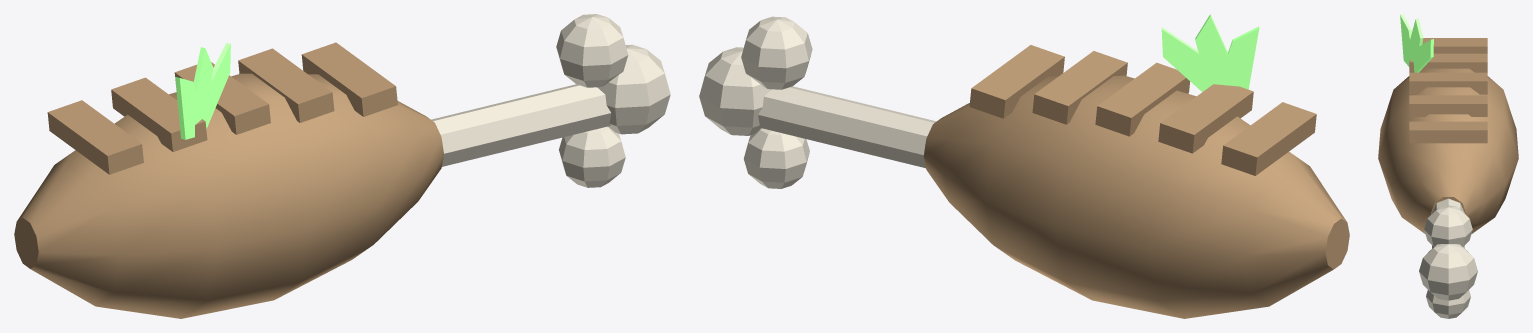
The model's file is pickups-and-collectibles-food-pickup-dafebfbb__19912.glb.
3 views of the same model, side by side, from view 1: azimuth 30°, elevation 25°; view 2: azimuth 150°, elevation 25°; view 3: azimuth 270°, elevation 25° (orthographic). The views are drawn at different scales.
Parts seen in each view (by area): view 1: body/timber, body/bone, body/verdant; view 2: body/timber, body/bone, body/verdant; view 3: body/timber, body/bone, body/verdant.
Boxes of the visible parts, box(x1,y1,x2,y2) form: body/timber: box(14, 42, 443, 318); body/bone: box(431, 14, 670, 187); body/verdant: box(175, 43, 230, 139); body/timber: box(923, 45, 1349, 318); body/bone: box(699, 16, 936, 188); body/verdant: box(1161, 14, 1259, 91); body/timber: box(1378, 38, 1518, 233); body/bone: box(1419, 198, 1477, 318); body/verdant: box(1400, 14, 1433, 72).
Bounding box in the file's own units: 0.554 × 0.2294 × 0.1619.
